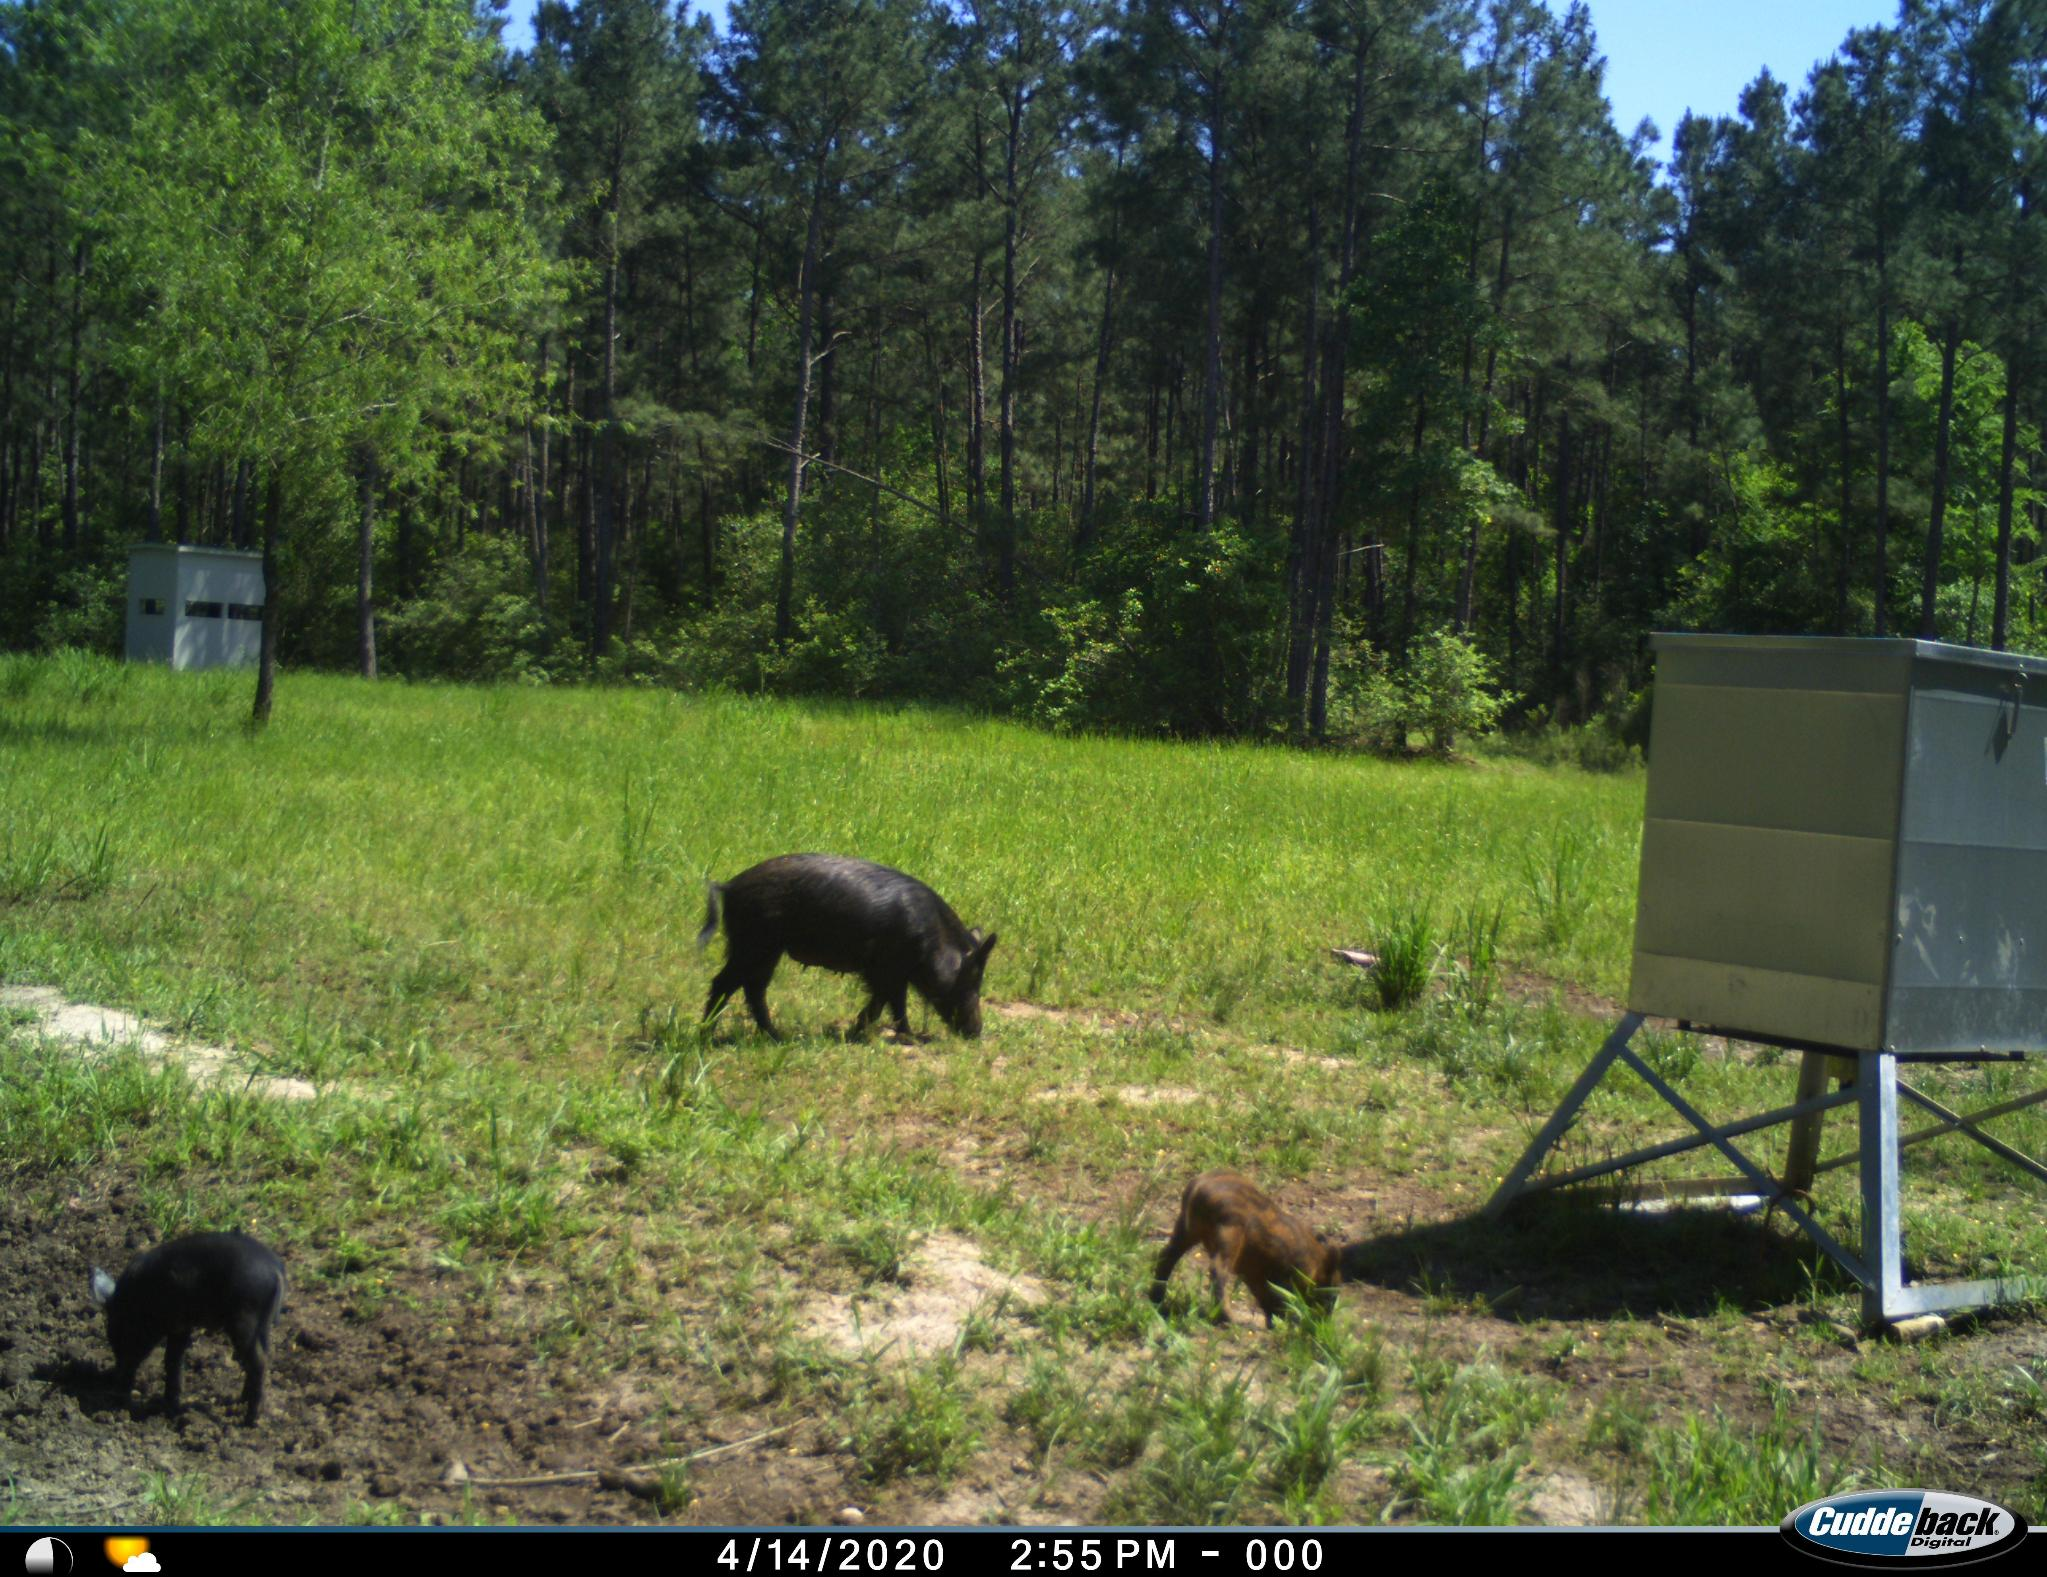Hog: (671, 838, 1009, 1050), (71, 1224, 308, 1431), (1138, 1160, 1378, 1340)
